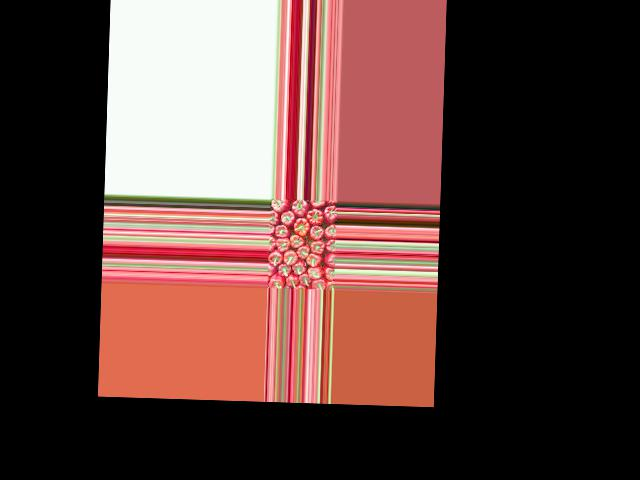bell_pepper: (268, 273, 283, 288)
